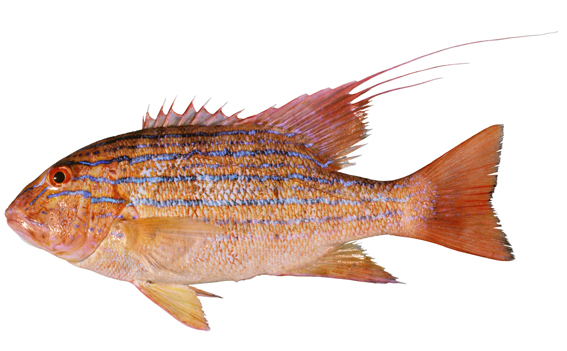fish: (4, 31, 516, 332)
